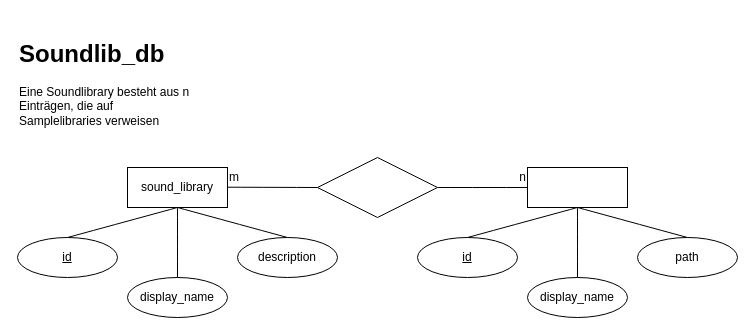
The diagram is 755 pixels wide and 335 high, and some of its shapes have lost their labels. The centre of each missing label's shape, as x and y in pixels:
hält: the point at 377,187
sample_library: the point at 577,187
